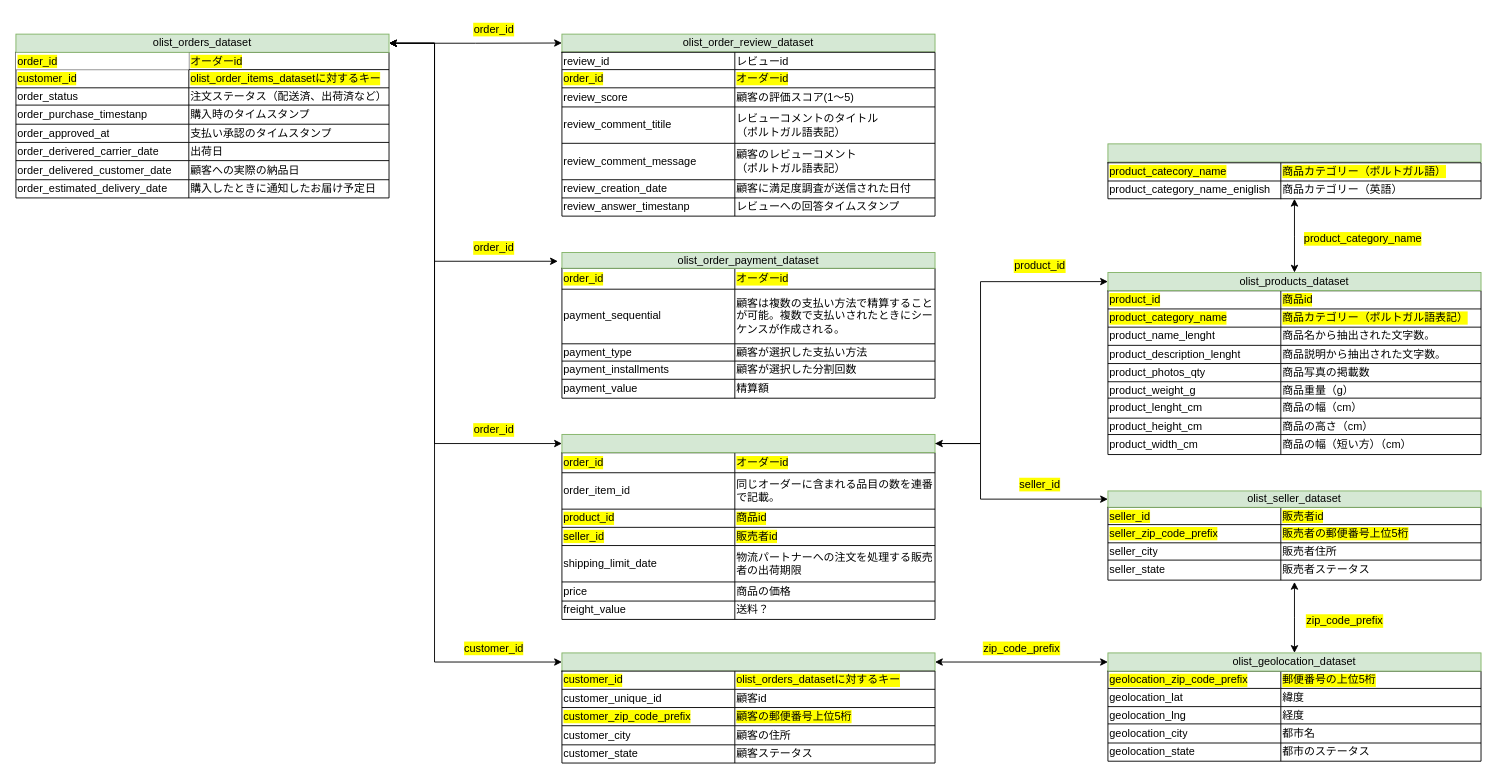
Some shapes in this 1497 by 779 pixel diagram are drawn without their labels. The shapes that lost their labels are listed below. From the top down, each one's box as (x1, y1, x2, y2) in pixels, then its label:
(1107, 143, 1481, 162): olist_category_name_transration
(561, 434, 935, 453): olist_order_items_dataset
(561, 652, 935, 671): olist_customer_dataset
